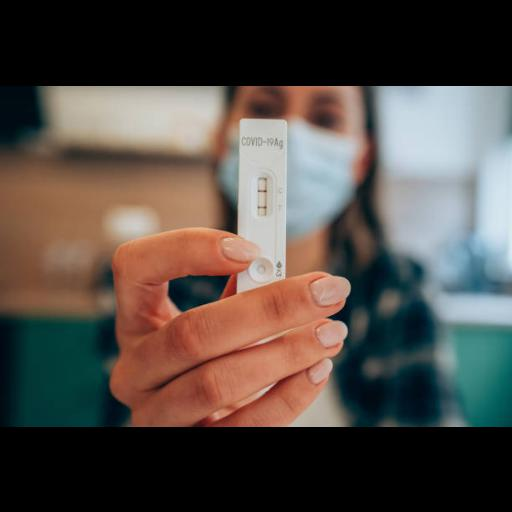Pos: (239, 117, 285, 279)
